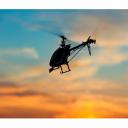helicopter: (31, 24, 98, 75)
